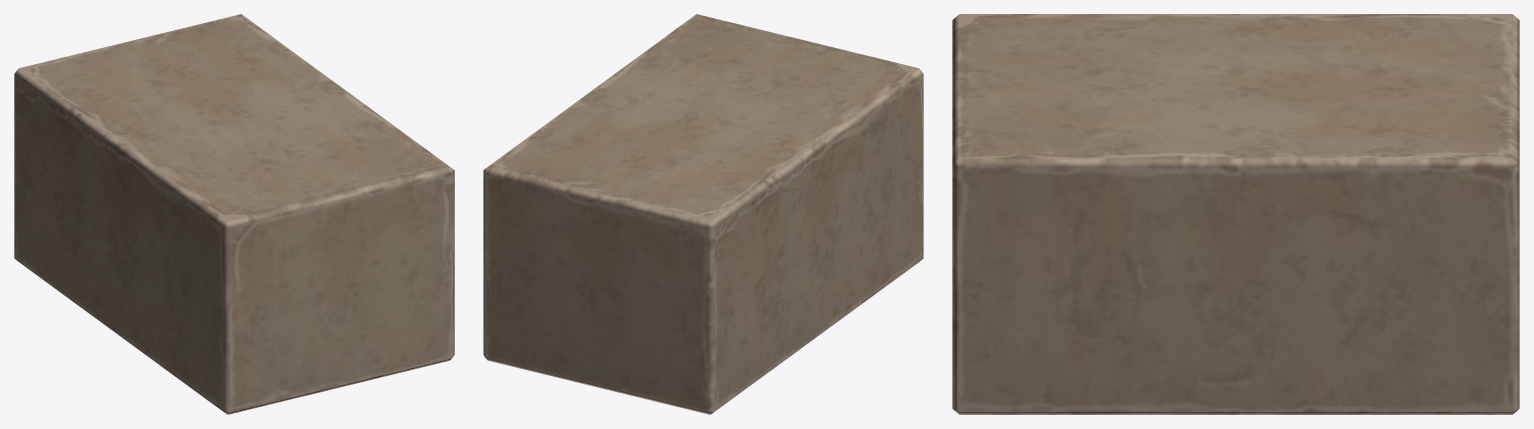
Rendered from SM_construction_block_01.glb.
3 renders of one model, left to right at view 1: azimuth 30°, elevation 25°; view 2: azimuth 150°, elevation 25°; view 3: azimuth 270°, elevation 25°, orthographic. The views are drawn at different scales.
Parts seen in each view (by area): view 1: SM_construction_block_01; view 2: SM_construction_block_01; view 3: SM_construction_block_01.
Part boxes in pixels (bbox=[...]): SM_construction_block_01: bbox=[14, 14, 454, 414]; SM_construction_block_01: bbox=[483, 14, 923, 414]; SM_construction_block_01: bbox=[952, 14, 1519, 414].
Size of the model in its own units: 1.5 by 1.2 by 2.4.
1 material, 1 textured.
